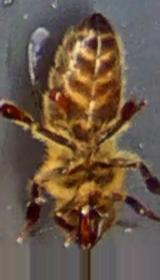varroa_mite: (37, 82, 80, 120)
